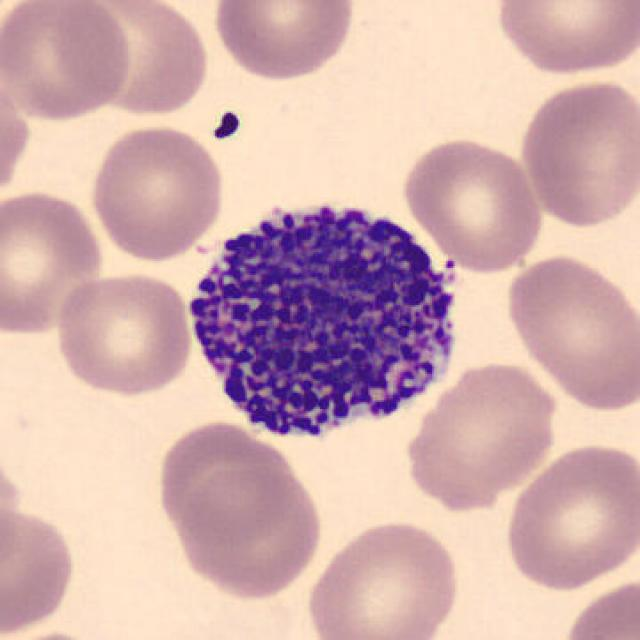Basophil: (174, 181, 476, 455)
Platelets: (210, 107, 243, 143)
RBC: (400, 356, 562, 511), (164, 460, 327, 605), (502, 249, 638, 414), (502, 437, 638, 594), (398, 132, 546, 275), (86, 120, 228, 264), (302, 515, 464, 640), (516, 74, 638, 231), (153, 418, 300, 548), (52, 268, 194, 398), (0, 0, 137, 123), (0, 185, 107, 339), (73, 0, 211, 118), (208, 0, 361, 83), (489, 0, 638, 78), (0, 502, 80, 638), (558, 575, 638, 640), (0, 64, 34, 204), (0, 448, 25, 584), (0, 627, 133, 640)
